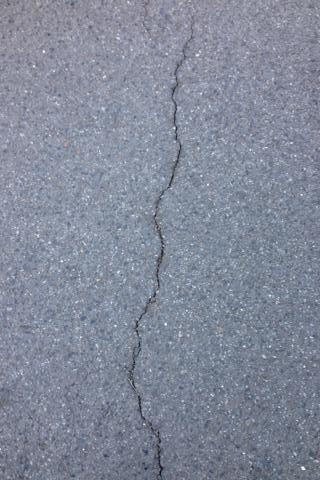A: (128, 14, 200, 480)
